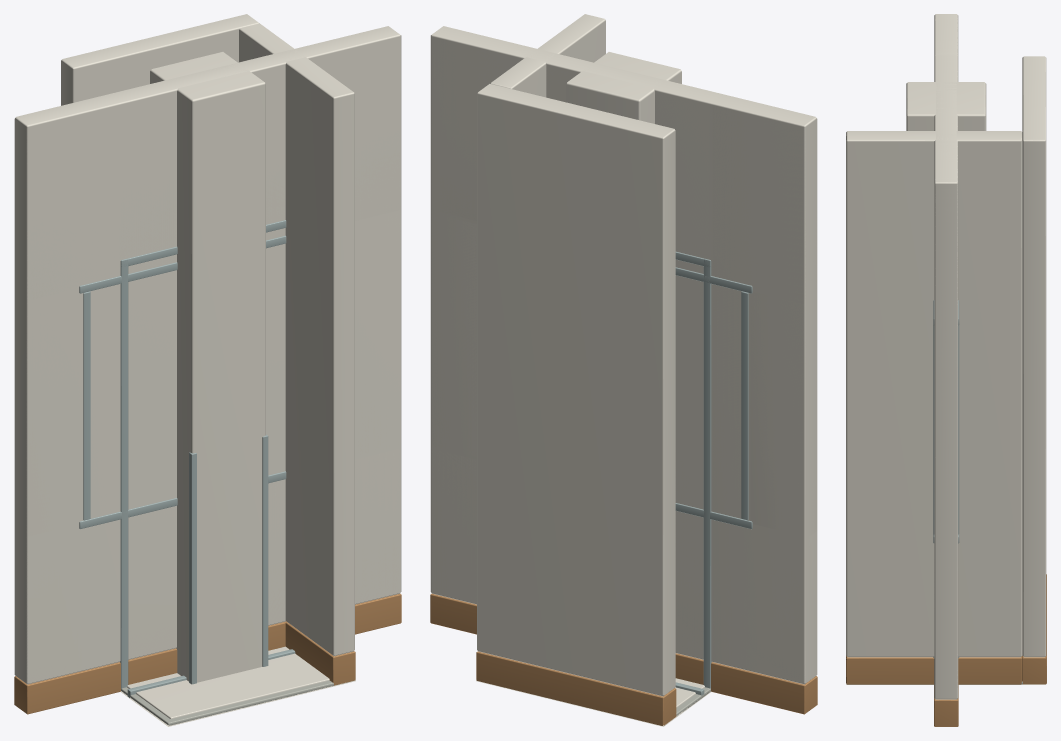
Rendered from room-kit.glb.
3 views of the same model, side by side, from view 1: azimuth 30°, elevation 25°; view 2: azimuth 150°, elevation 25°; view 3: azimuth 270°, elevation 25° (orthographic). The views are drawn at different scales.
Visible parts, largest first — view 1: WallStraight2_KitAtlas, WallDoor_KitAtlas, Pillar_KitAtlas, WallCorner_KitAtlas, WallWindow_KitAtlas, WallStraight_KitAtlas, CeilingTile_KitAtlas, FloorTile_KitAtlas; view 2: WallCorner_KitAtlas, WallStraight2_KitAtlas, WallDoor_KitAtlas, WallWindow_KitAtlas, WallStraight_KitAtlas, Pillar_KitAtlas, CeilingTile_KitAtlas; view 3: WallCorner_KitAtlas, WallDoor_KitAtlas, WallStraight2_KitAtlas, WallWindow_KitAtlas, Pillar_KitAtlas, WallStraight_KitAtlas.
Part boxes in pixels (x1,y1,x2,y2): WallStraight2_KitAtlas: [14, 26, 401, 714]; WallDoor_KitAtlas: [14, 26, 400, 713]; Pillar_KitAtlas: [150, 52, 268, 684]; WallCorner_KitAtlas: [61, 14, 355, 685]; WallWindow_KitAtlas: [14, 37, 401, 683]; WallStraight_KitAtlas: [110, 49, 304, 681]; CeilingTile_KitAtlas: [120, 646, 355, 726]; FloorTile_KitAtlas: [121, 680, 347, 725]; WallCorner_KitAtlas: [476, 14, 676, 725]; WallStraight2_KitAtlas: [430, 26, 817, 714]; WallDoor_KitAtlas: [430, 26, 817, 713]; WallWindow_KitAtlas: [431, 40, 817, 683]; WallStraight_KitAtlas: [527, 50, 721, 684]; Pillar_KitAtlas: [566, 52, 681, 123]; CeilingTile_KitAtlas: [476, 678, 711, 726]; WallCorner_KitAtlas: [846, 56, 1046, 684]; WallDoor_KitAtlas: [933, 14, 959, 699]; WallStraight2_KitAtlas: [934, 14, 958, 726]; WallWindow_KitAtlas: [933, 184, 959, 672]; Pillar_KitAtlas: [906, 82, 986, 130]; WallStraight_KitAtlas: [934, 56, 958, 138].
Bounding box in the file's own units: 10 × 15 × 5.01.
Materials: 2 (1 with a texture image).
